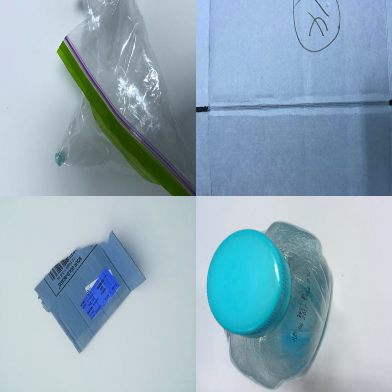cardboard: (196, 1, 392, 195), (33, 231, 146, 353)
plastic: (52, 1, 196, 194), (206, 222, 333, 390)
